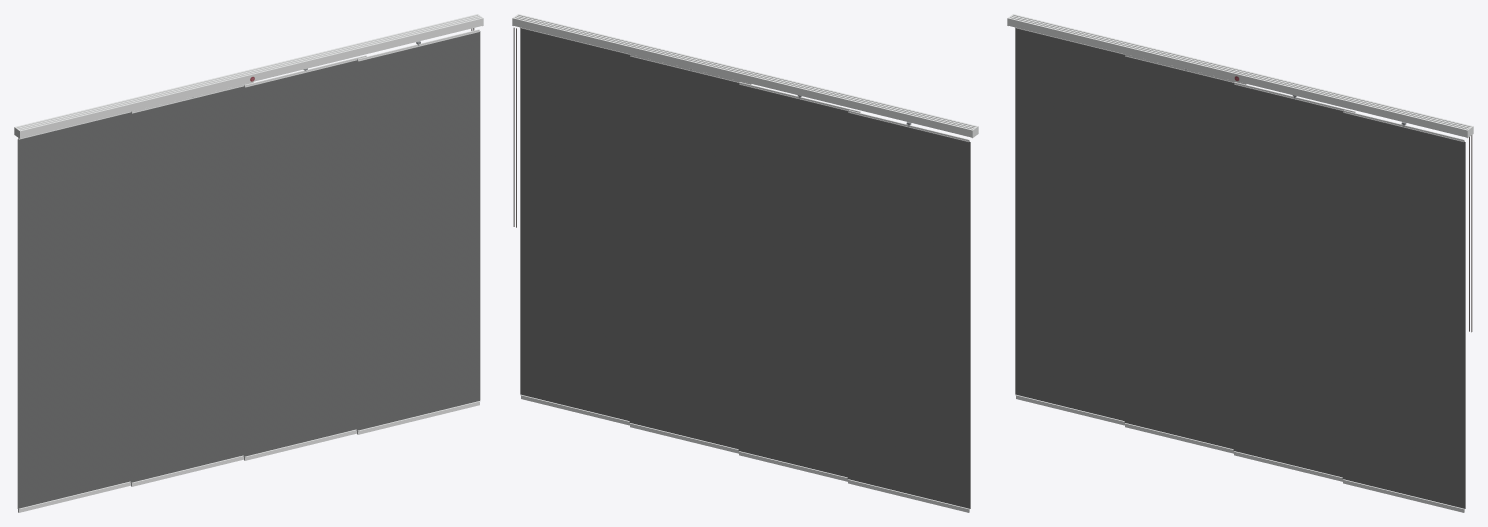
File: before-panel-white-black-closed.glb
The picture shows the model from 3 angles, left to right: view 1: azimuth 30°, elevation 25°; view 2: azimuth 150°, elevation 25°; view 3: azimuth 330°, elevation 25°; orthographic projection.
Visible parts, largest first — view 1: PANEL_TELO_4, PANEL_TELO_1, PANEL_TELO_2, PANEL_TELO_3, PANEL_RAIL_PROFILE_WAY_4, PANEL_RAIL_PROFILE_WAY_3, PANEL_RAIL_PROFILE_WAY_1, PANEL_RAIL_PROFILE_WAY_2, PANEL_BOTTOM_WEIGHT_4, PANEL_BOTTOM_WEIGHT_1, PANEL_BOTTOM_WEIGHT_2, PANEL_BOTTOM_WEIGHT_3; view 2: PANEL_TELO_1, PANEL_TELO_4, PANEL_TELO_3, PANEL_TELO_2, PANEL_RAIL_PROFILE_WAY_1, PANEL_RAIL_PROFILE_WAY_2, PANEL_RAIL_PROFILE_WAY_4, PANEL_RAIL_PROFILE_WAY_3, PANEL_BOTTOM_WEIGHT_1, PANEL_BOTTOM_WEIGHT_3, PANEL_BOTTOM_WEIGHT_2, PANEL_BOTTOM_WEIGHT_4; view 3: PANEL_TELO_4, PANEL_TELO_1, PANEL_TELO_2, PANEL_TELO_3, PANEL_RAIL_PROFILE_WAY_4, PANEL_RAIL_PROFILE_WAY_3, PANEL_RAIL_PROFILE_WAY_1, PANEL_RAIL_PROFILE_WAY_2, PANEL_BOTTOM_WEIGHT_4, PANEL_BOTTOM_WEIGHT_2, PANEL_BOTTOM_WEIGHT_1, PANEL_BOTTOM_WEIGHT_3.
Part boxes in pixels (bbox=[...]): PANEL_TELO_4: bbox=[356, 31, 480, 430]; PANEL_TELO_1: bbox=[17, 112, 131, 508]; PANEL_TELO_2: bbox=[130, 86, 244, 482]; PANEL_TELO_3: bbox=[243, 60, 357, 456]; PANEL_RAIL_PROFILE_WAY_4: bbox=[21, 18, 482, 138]; PANEL_RAIL_PROFILE_WAY_3: bbox=[19, 16, 480, 130]; PANEL_RAIL_PROFILE_WAY_1: bbox=[16, 14, 477, 127]; PANEL_RAIL_PROFILE_WAY_2: bbox=[17, 15, 478, 128]; PANEL_BOTTOM_WEIGHT_4: bbox=[357, 401, 480, 434]; PANEL_BOTTOM_WEIGHT_1: bbox=[18, 481, 130, 512]; PANEL_BOTTOM_WEIGHT_2: bbox=[131, 455, 243, 486]; PANEL_BOTTOM_WEIGHT_3: bbox=[244, 429, 356, 460]; PANEL_TELO_1: bbox=[847, 112, 970, 508]; PANEL_TELO_4: bbox=[520, 27, 630, 420]; PANEL_TELO_3: bbox=[629, 56, 739, 449]; PANEL_TELO_2: bbox=[738, 84, 848, 477]; PANEL_RAIL_PROFILE_WAY_1: bbox=[513, 18, 972, 137]; PANEL_RAIL_PROFILE_WAY_2: bbox=[515, 16, 973, 129]; PANEL_RAIL_PROFILE_WAY_4: bbox=[518, 14, 976, 126]; PANEL_RAIL_PROFILE_WAY_3: bbox=[517, 15, 975, 128]; PANEL_BOTTOM_WEIGHT_1: bbox=[848, 479, 969, 512]; PANEL_BOTTOM_WEIGHT_3: bbox=[629, 423, 738, 453]; PANEL_BOTTOM_WEIGHT_2: bbox=[739, 451, 847, 481]; PANEL_BOTTOM_WEIGHT_4: bbox=[520, 395, 629, 425]; PANEL_TELO_4: bbox=[1342, 112, 1465, 508]; PANEL_TELO_1: bbox=[1015, 27, 1125, 420]; PANEL_TELO_2: bbox=[1124, 56, 1234, 449]; PANEL_TELO_3: bbox=[1233, 84, 1343, 477]; PANEL_RAIL_PROFILE_WAY_4: bbox=[1008, 18, 1467, 137]; PANEL_RAIL_PROFILE_WAY_3: bbox=[1010, 16, 1468, 129]; PANEL_RAIL_PROFILE_WAY_1: bbox=[1013, 14, 1471, 126]; PANEL_RAIL_PROFILE_WAY_2: bbox=[1012, 15, 1470, 128]; PANEL_BOTTOM_WEIGHT_4: bbox=[1343, 479, 1464, 512]; PANEL_BOTTOM_WEIGHT_2: bbox=[1124, 423, 1233, 453]; PANEL_BOTTOM_WEIGHT_1: bbox=[1015, 395, 1124, 425]; PANEL_BOTTOM_WEIGHT_3: bbox=[1234, 451, 1342, 481].
Bounding box in the file's own units: 3.02 × 2.4 × 0.088.
Materials: 5 (2 with a texture image).
